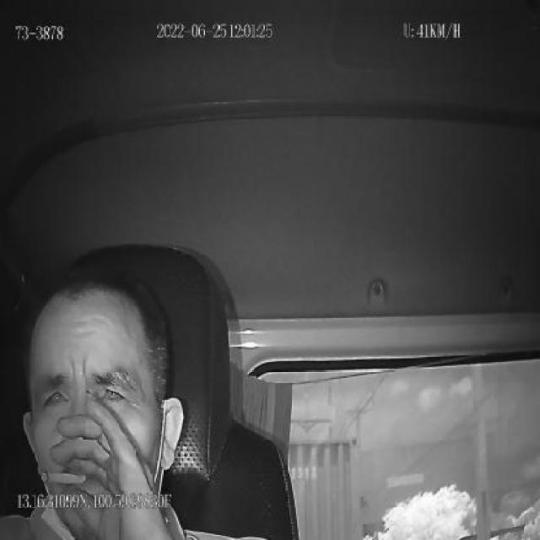smoking: (39, 468, 87, 486)
